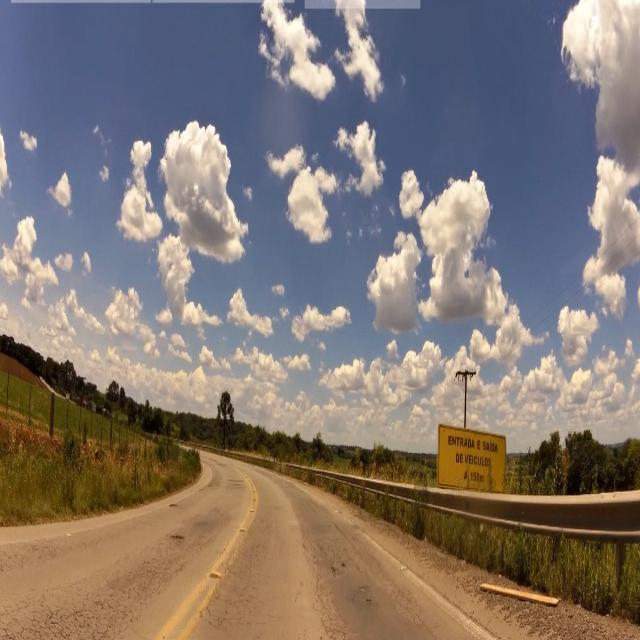ESP-20: (437, 423, 507, 498)
